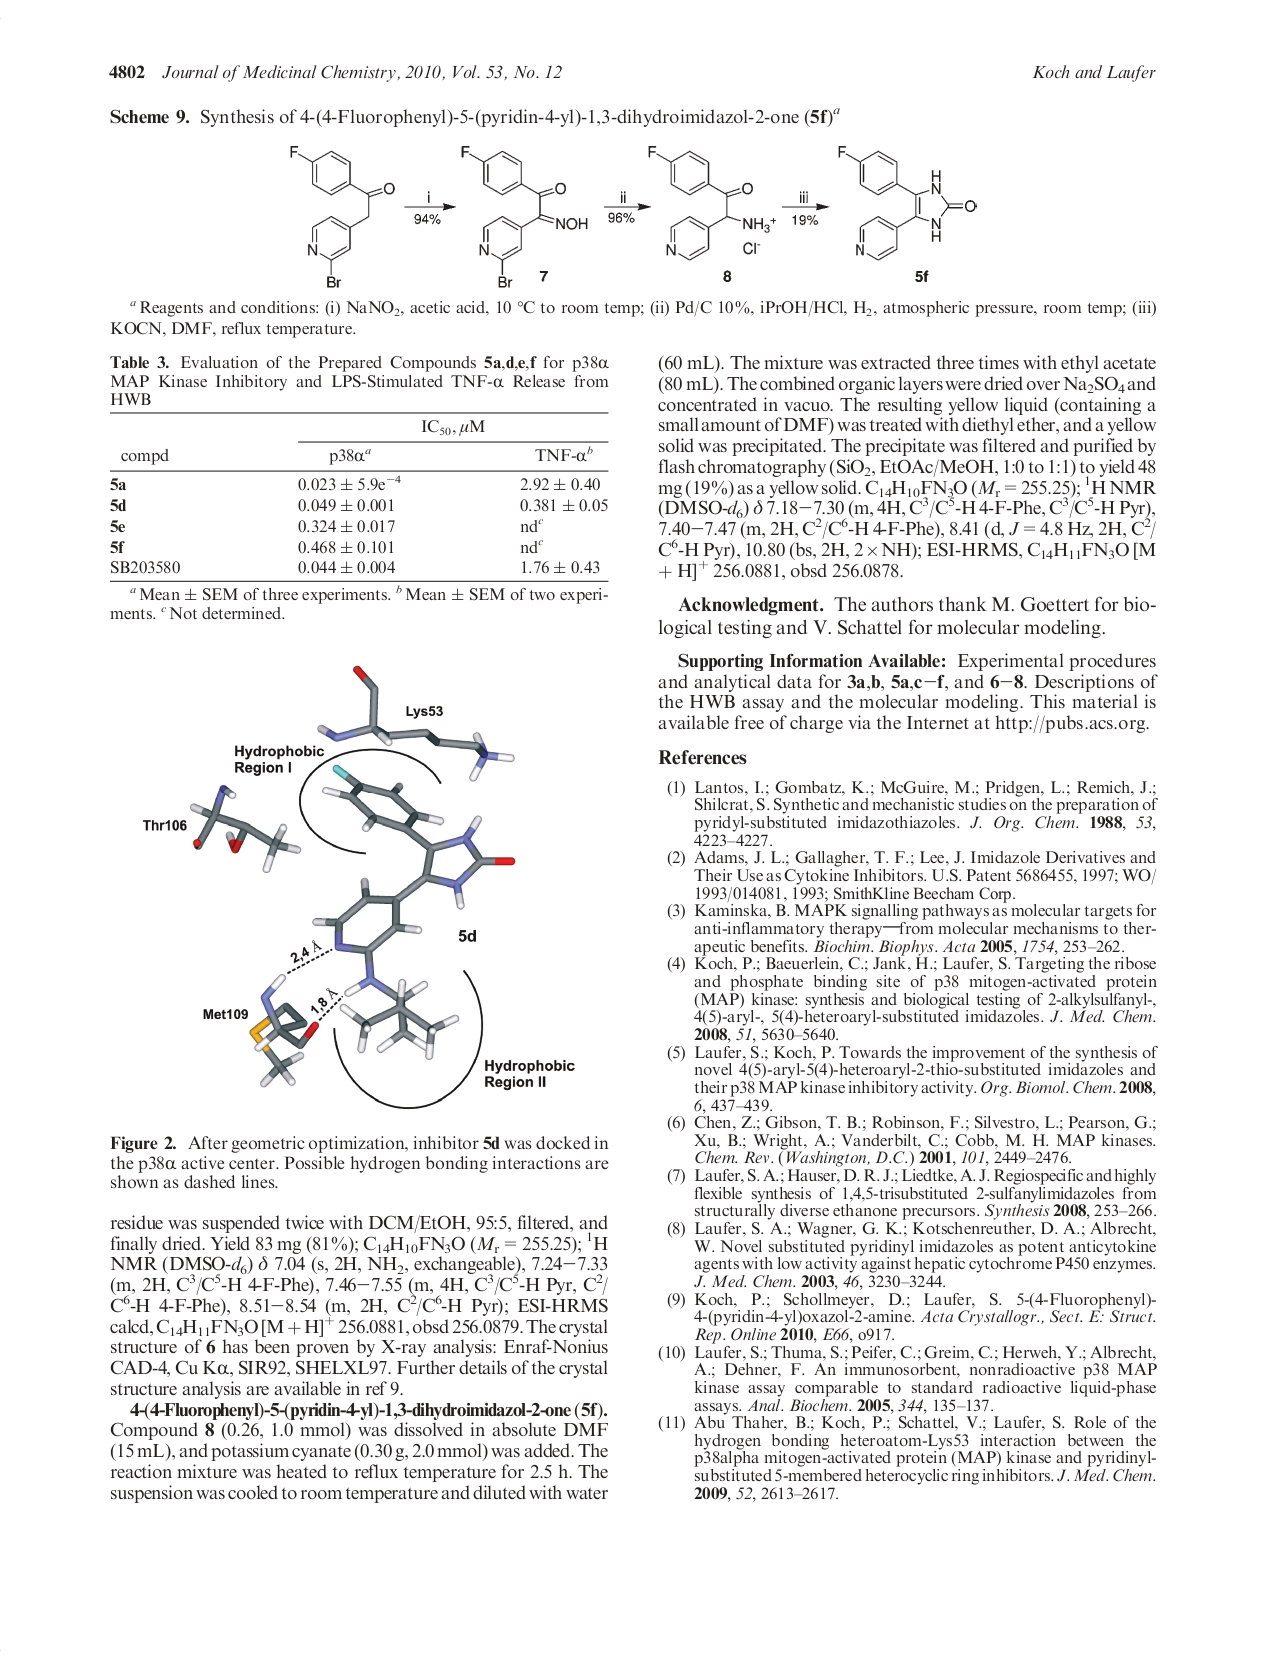exist_molecular: (452, 138, 592, 291), (830, 140, 981, 262), (282, 136, 399, 289), (640, 138, 781, 265)
